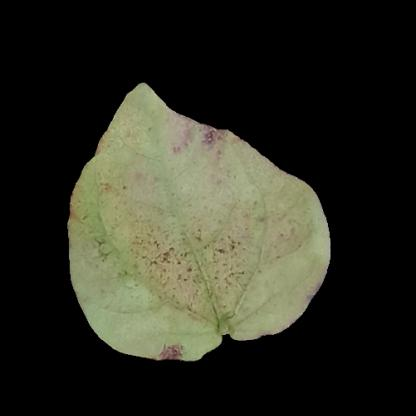curl_stage1: (91, 185, 302, 311), (115, 125, 224, 189)
